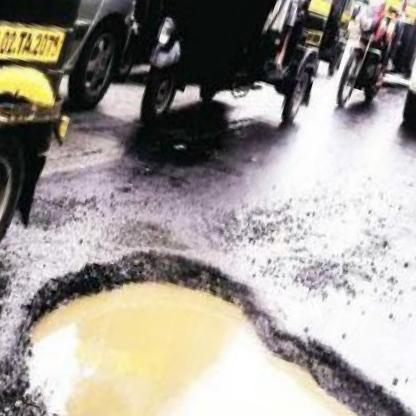pothole: (0, 207, 416, 416)
